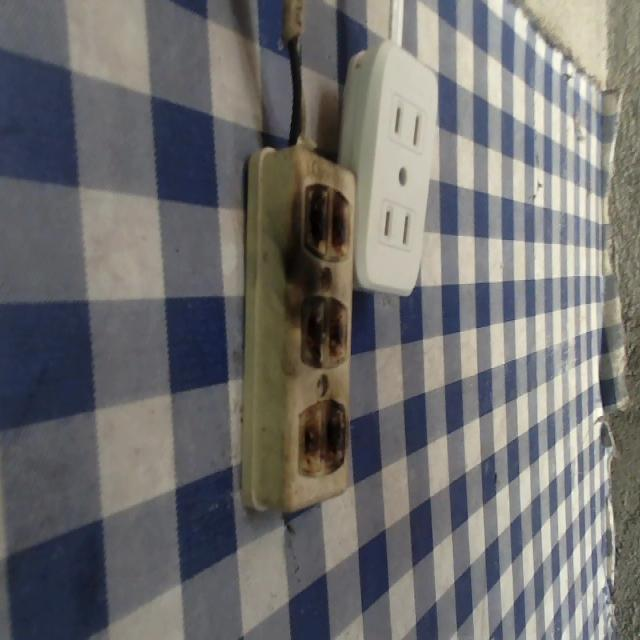-: (295, 181, 356, 259), (297, 292, 354, 375), (289, 396, 350, 473)
